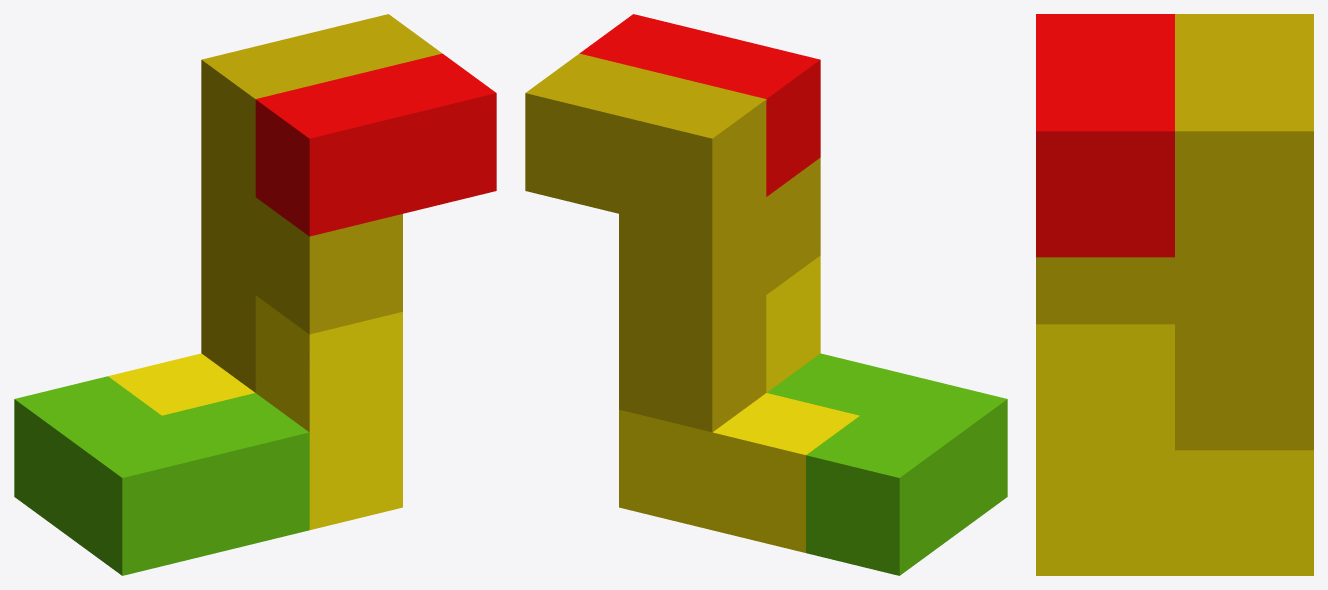
3 views of the same model, side by side, from view 1: azimuth 30°, elevation 25°; view 2: azimuth 150°, elevation 25°; view 3: azimuth 270°, elevation 25° (orthographic). The views are drawn at different scales.
Visible parts, largest first — view 1: mergedBlocks(Clone); view 2: mergedBlocks(Clone); view 3: mergedBlocks(Clone).
Boxes of the visible parts, bbox=[...] form: mergedBlocks(Clone): bbox=[14, 14, 496, 575]; mergedBlocks(Clone): bbox=[525, 14, 1007, 575]; mergedBlocks(Clone): bbox=[1036, 14, 1313, 575].
Bounding box in the file's own units: 4 × 4 × 2.
Materials: 4 (4 with a texture image).
